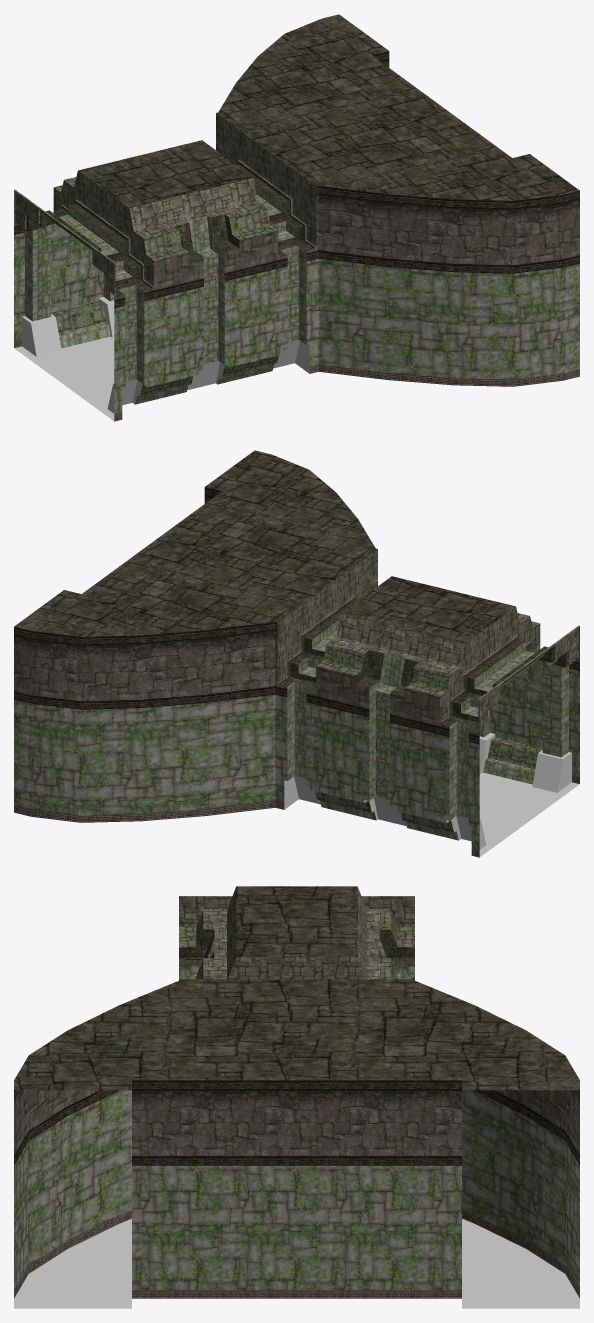
The model's file is thm_yavn_palace_woolamander_r8_statue_hallway_mesh.fbx.
3 views of the same model, one above another, from view 1: azimuth 30°, elevation 25°; view 2: azimuth 150°, elevation 25°; view 3: azimuth 270°, elevation 25° (orthographic). The views are drawn at different scales.
Visible parts, largest first — view 1: mesh_node; view 2: mesh_node; view 3: mesh_node.
Part boxes in pixels (x1,y1,x2,y2): mesh_node: [14, 14, 579, 421]; mesh_node: [14, 450, 579, 857]; mesh_node: [14, 886, 579, 1308].
Bounding box in the file's own units: 22.75 × 10.22 × 24.
